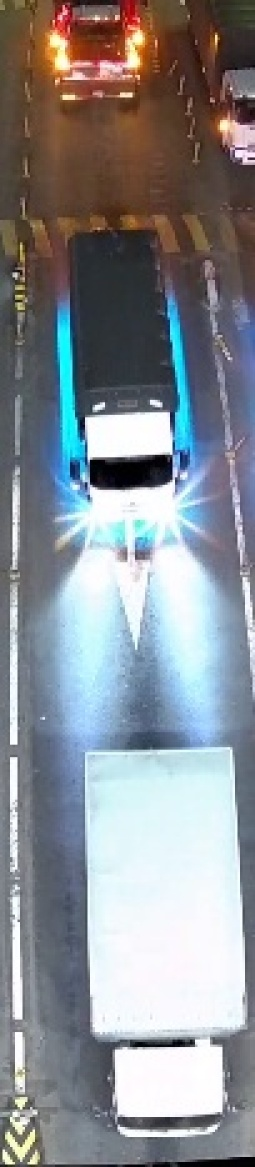truck: (71, 733, 246, 1154), (64, 224, 200, 551), (49, 0, 149, 115)
